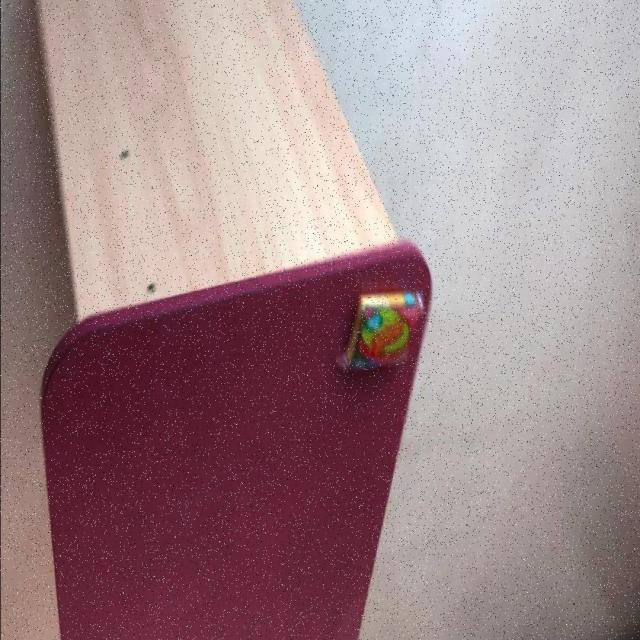Sponge: (41, 238, 434, 640), (336, 287, 425, 371)
